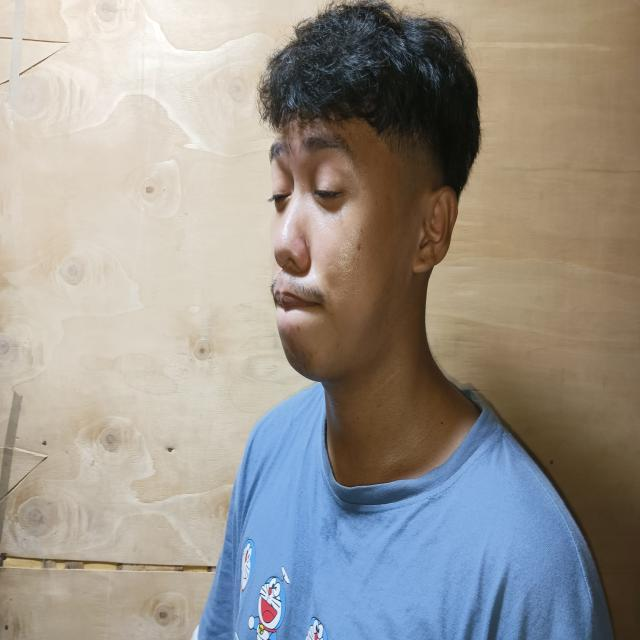Nonhelmet: (254, 1, 483, 390)
